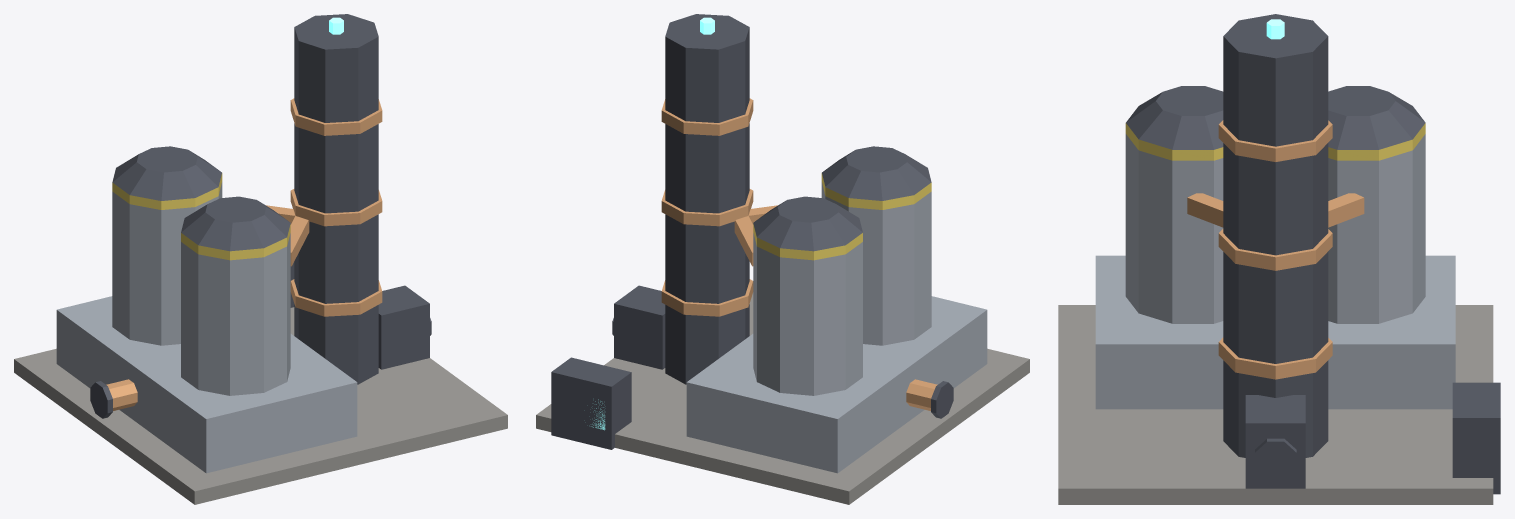
Rendered from refinador.glb.
The picture shows the model from 3 angles, left to right: view 1: azimuth 30°, elevation 25°; view 2: azimuth 150°, elevation 25°; view 3: azimuth 270°, elevation 25°; orthographic projection. The views are drawn at different scales.
Visible parts, largest first — view 1: refinador; view 2: refinador; view 3: refinador.
Boxes of the visible parts, box(x1,y1,x2,y2) form: refinador: box(14, 14, 507, 504); refinador: box(536, 14, 1029, 504); refinador: box(1058, 14, 1500, 504).
Size of the model in its own units: 3 by 3.2 by 2.95.
